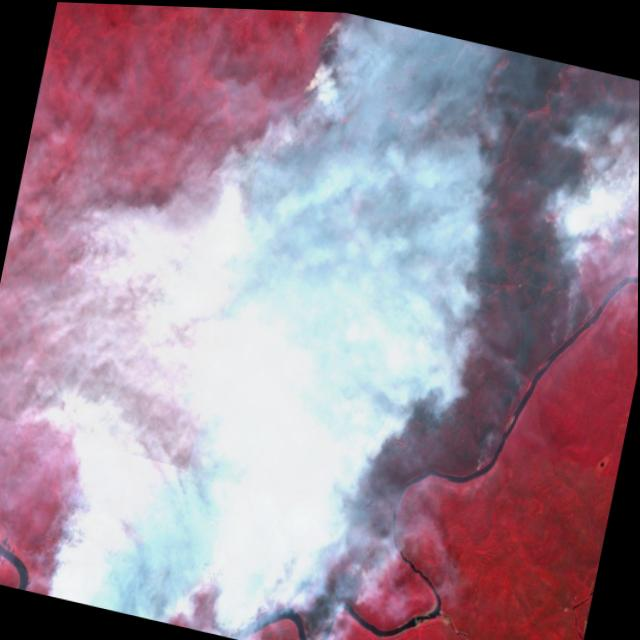fire: (53, 125, 476, 640), (252, 7, 374, 170)
